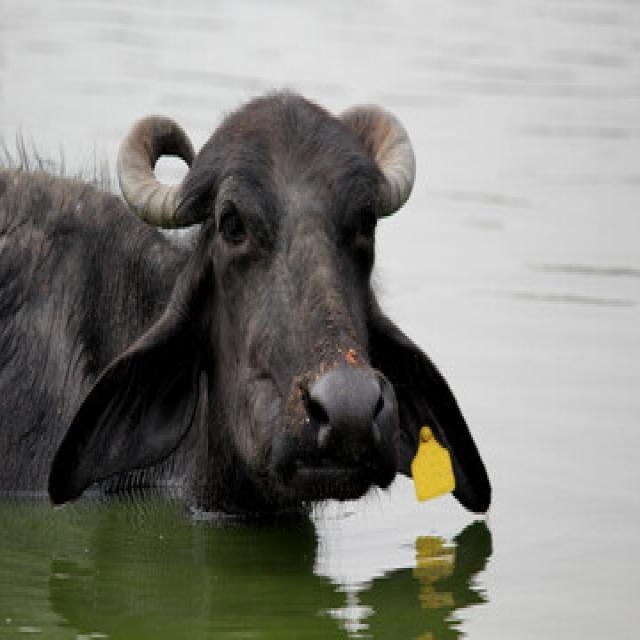Buffalo: (0, 82, 492, 533)
